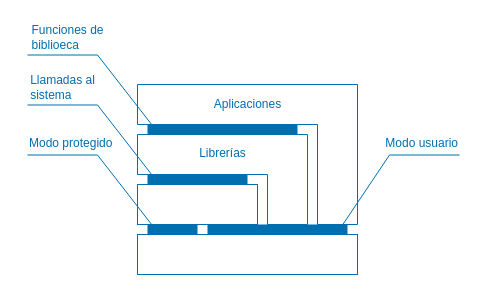
Some shapes in this 477 by 292 pixel diagram are drawn without their labels. Here are the shapes that lost their labels. From the top down, the box of each, then its label:
(136, 184, 258, 224): Sistema operativo
(136, 234, 358, 274): Hardware
